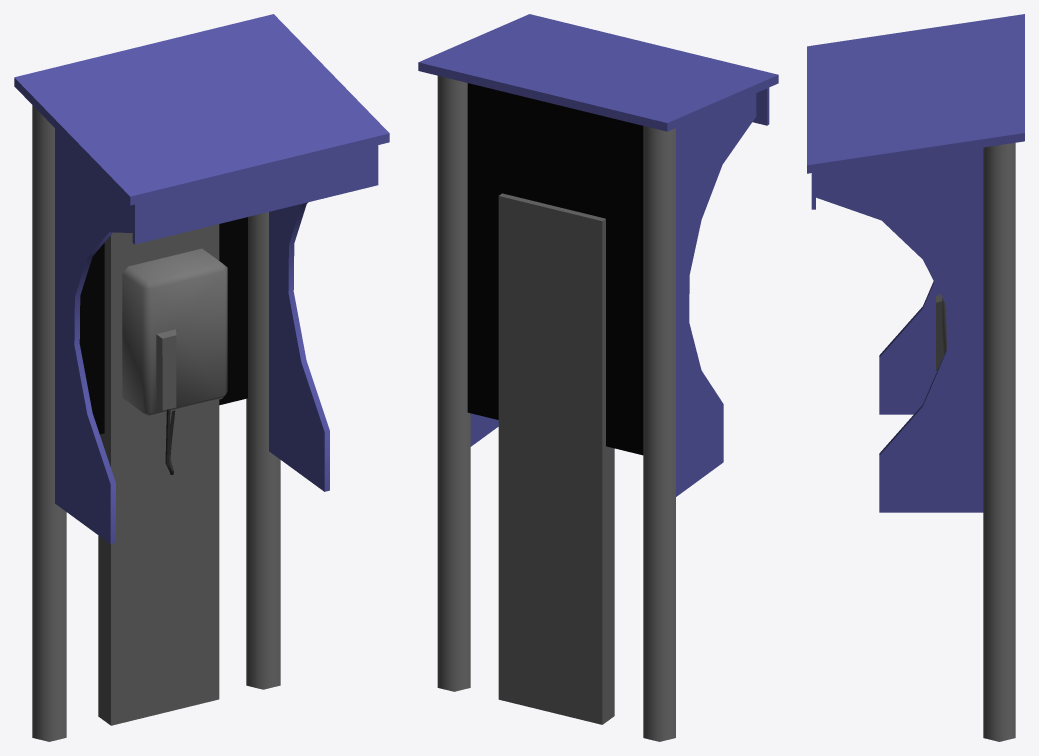
The model's file is PhoneBooth01.fbx.
The picture shows the model from 3 angles, left to right: view 1: azimuth 30°, elevation 25°; view 2: azimuth 150°, elevation 25°; view 3: azimuth 270°, elevation 25°; orthographic projection. The views are drawn at different scales.
Visible parts, largest first — view 1: PhoneBooth01; view 2: PhoneBooth01; view 3: PhoneBooth01.
Boxes of the visible parts, x1,y1,x2,y2 form: PhoneBooth01: [14, 14, 389, 741]; PhoneBooth01: [418, 14, 778, 741]; PhoneBooth01: [807, 14, 1024, 741].
Size of the model in its own units: 1.11 by 2.66 by 0.8589.
